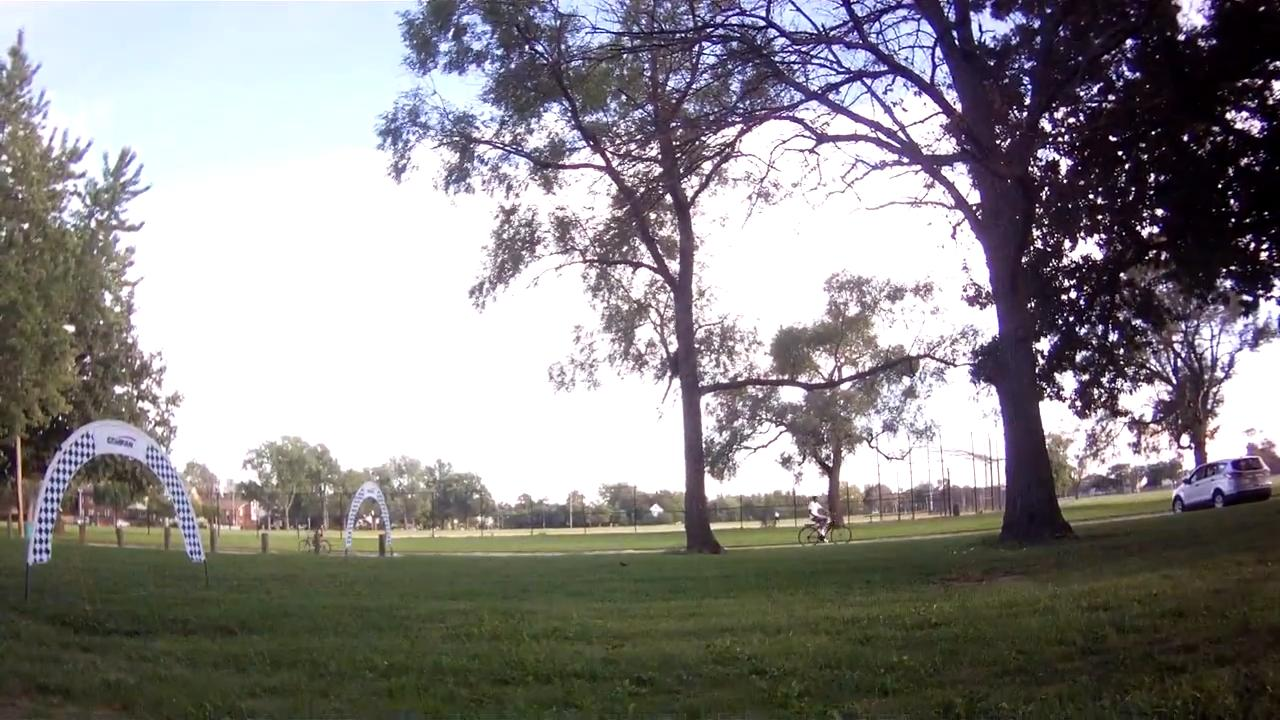gate: (23, 420, 210, 569)
